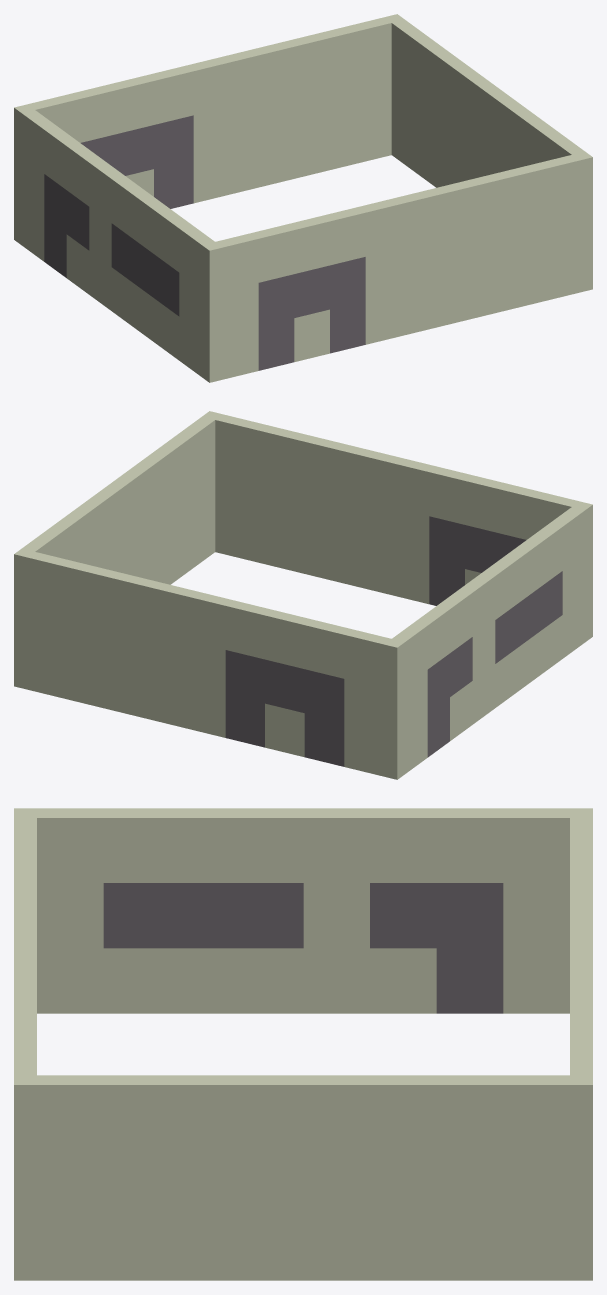
Rendered from BuildingWalls.fbx.
3 renders of one model, top to bottom at view 1: azimuth 30°, elevation 25°; view 2: azimuth 150°, elevation 25°; view 3: azimuth 270°, elevation 25°, orthographic. The views are drawn at different scales.
Visible parts, largest first — view 1: Cube; view 2: Cube; view 3: Cube.
Boxes of the visible parts, x1,y1,x2,y2 form: Cube: (14,14,592,382); Cube: (14,411,592,779); Cube: (14,808,592,1280).
Size of the model in its own units: 1140 by 1290 by 425.
